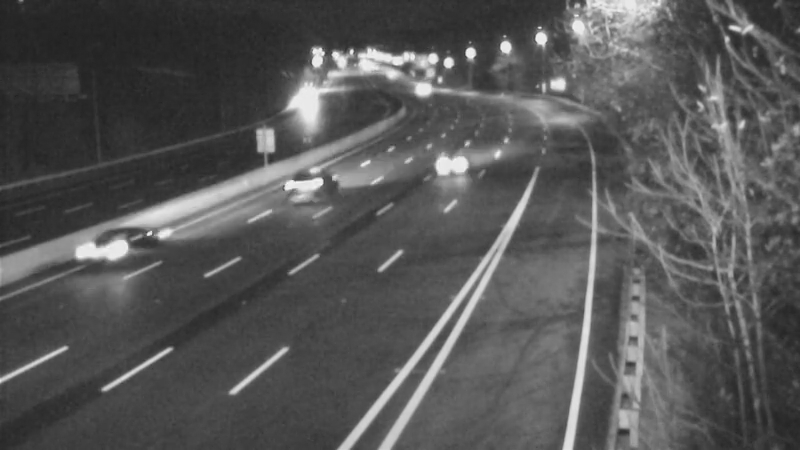vehicle: (411, 125, 491, 205), (263, 146, 343, 226), (67, 212, 147, 292), (395, 63, 445, 113)
